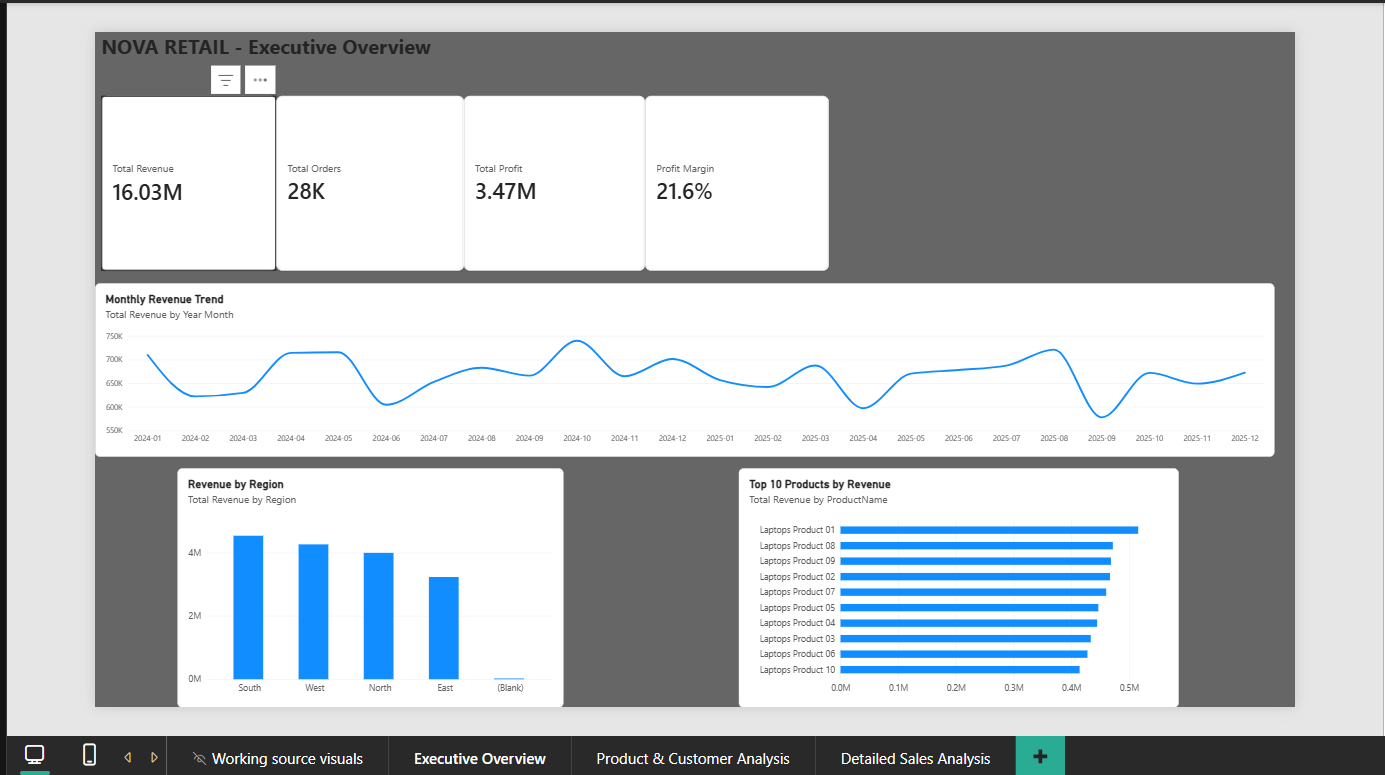

The page's visual inventory and layout, read from the dashboard file:
{"tool":"powerbi","page":{"name":"Executive Overview","canvas":[1920,1080],"ordinal":1},"visuals":[{"type":"cardVisual","fields":{"Data":["Sales_Raw.Total Profit"]},"box":[590.7,102.9,290.2,279.9],"z":0},{"type":"cardVisual","fields":{"Data":["Sales_Raw.Profit Margin"]},"box":[881,102.9,294.3,279.9],"z":1000},{"type":"cardVisual","fields":{"Data":["Sales_Raw.Total Revenue"]},"box":[10.3,102.9,280,280],"z":2000},{"type":"cardVisual","fields":{"Data":["Sales_Raw.Totel Orders"]},"box":[290.2,102.9,300.5,279.9],"z":3000},{"type":"lineChart","title":"Monthly Revenue Trend","fields":{"Y":["Sales_Raw.Total Revenue"],"Category":["Calendar.Year Month"]},"box":[0,401.4,1887.5,277.9],"z":4000},{"type":"clusteredColumnChart","title":" Revenue by Region","fields":{"Category":["Customers.Region"],"Y":["Sales_Raw.Total Revenue"]},"box":[131.7,697.8,617.5,382.8],"z":5000},{"type":"clusteredBarChart","title":"Top 10 Products by Revenue","fields":{"Category":["Products.ProductName"],"Y":["Sales_Raw.Total Revenue"]},"box":[1029.2,697.8,703.9,382.8],"z":6000},{"type":"textbox","box":[10.3,0,594.9,96.7],"z":7000}]}

Visuals, with their boxes on the page's 1920x1080 design canvas (x1, y1, x2, y2). These are canvas units, not pixel positions in the 1385x775 screenshot, which may show the page scaled, cropped or inside an application window:
cardVisual - Sales_Raw.Total Profit: 591:103:881:383
cardVisual - Sales_Raw.Profit Margin: 881:103:1175:383
cardVisual - Sales_Raw.Total Revenue: 10:103:290:383
cardVisual - Sales_Raw.Totel Orders: 290:103:591:383
"Monthly Revenue Trend" lineChart: 0:401:1888:679
" Revenue by Region" clusteredColumnChart: 132:698:749:1081
"Top 10 Products by Revenue" clusteredBarChart: 1029:698:1733:1081
textbox: 10:0:605:97
